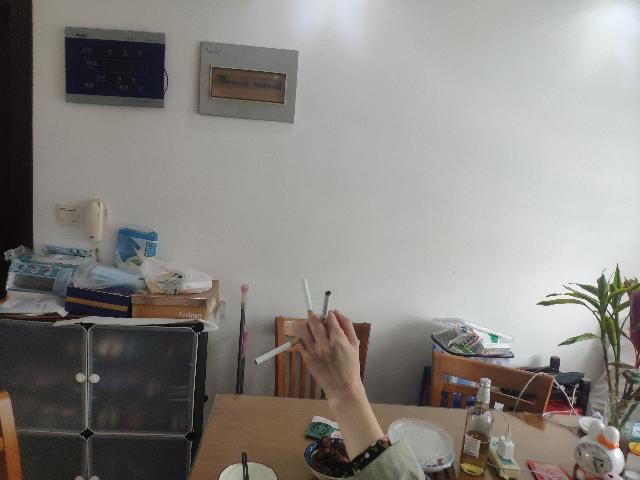Smoking: (254, 335, 306, 365), (300, 279, 316, 325), (318, 291, 332, 329)
